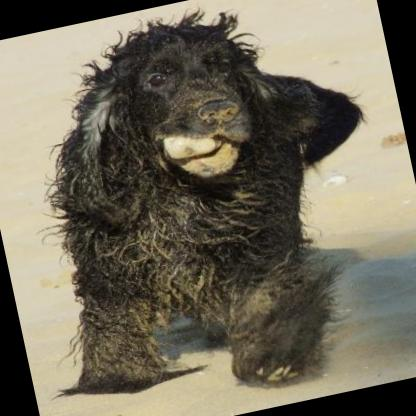cocker_spaniel: (0, 0, 411, 416)
